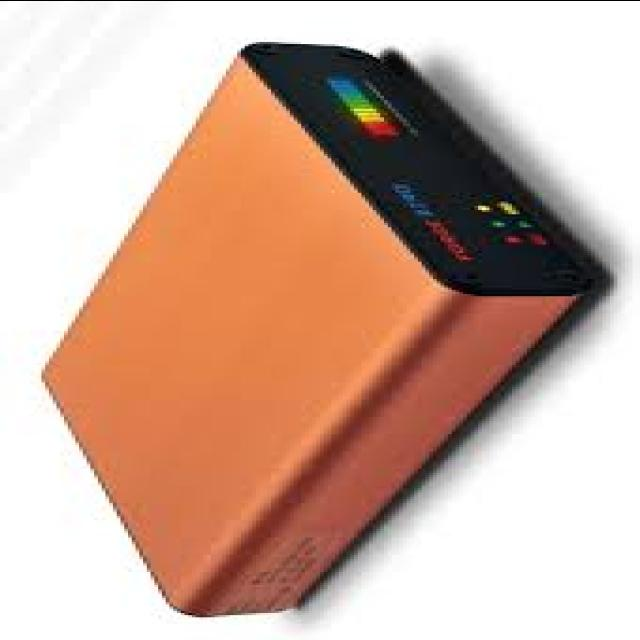power_bank: (38, 40, 624, 614)
